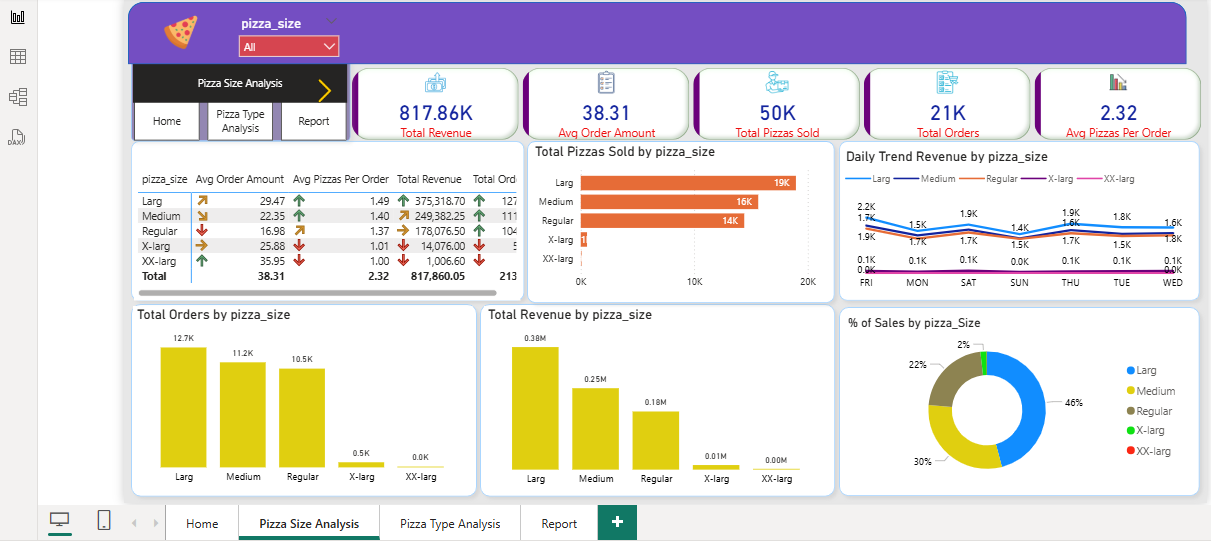

The dashboard page shown, as its layout file describes it:
{"tool":"powerbi","page":{"name":" Pizza Size Analysis","canvas":[1370,638],"ordinal":1},"visuals":[{"type":"shape","box":[0,377.1,455.7,261.4],"z":0},{"type":"columnChart","fields":{"Category":["bizza data set end to end project -.pizza_size"],"Y":["bizza data set end to end project -.Total Orders"]},"box":[11.4,388.6,430,234.3],"z":1000},{"type":"shape","box":[895.7,171.4,474.3,220],"z":2000},{"type":"shape","box":[441.4,377.1,467.1,261.4],"z":3000},{"type":"columnChart","fields":{"Y":["bizza data set end to end project -.Total Revenue"],"Category":["bizza data set end to end project -.pizza_size"]},"box":[455.7,388.6,437.1,237.1],"z":4000},{"type":"shape","box":[0,171.4,515.7,220],"z":5000},{"type":"lineChart","title":"Daily Trend Revenue by pizza_size","fields":{"Category":["bizza data set end to end project -.order day"],"Series":["bizza data set end to end project -.pizza_size"],"Y":["bizza data set end to end project -.Total Orders"]},"box":[908.6,188.6,450,188.6],"z":6000},{"type":"pivotTable","fields":{"Values":["bizza data set end to end project -.Average Order Value","bizza data set end to end project -.Average Pizzas Per Order","bizza data set end to end project -.Total Revenue","bizza data set end to end project -.Total Orders"],"Rows":["bizza data set end to end project -.pizza_size"]},"box":[12.9,212.9,488.6,168.6],"z":7000},{"type":"shape","box":[895.7,381.4,474.3,257.1],"z":8000},{"type":"donutChart","title":"% of Sales by pizza_Size","fields":{"Y":["bizza data set end to end project -.Total Revenue"],"Category":["bizza data set end to end project -.pizza_size"]},"box":[911.4,400,434.3,222.9],"z":9000},{"type":"cardVisual","fields":{"Data":["bizza data set end to end project -.Total Revenue","bizza data set end to end project -.Average Order Value","bizza data set end to end project -.Total Pizzas Sold","bizza data set end to end project -.Total Orders","bizza data set end to end project -.Average Pizzas Per Order"]},"box":[283.5,82.3,1086.1,101.3],"z":10000},{"type":"shape","box":[0,65.7,295.7,122.9],"z":11000},{"type":"pageNavigator","box":[12.9,128.6,270,50],"z":12000},{"type":"pageNavigator","box":[11.4,81.4,271.4,50],"z":13000},{"type":"shape","box":[5,3.8,1340,78.8],"z":14000},{"type":"shape","box":[501.4,171.4,407.1,222.9],"z":15000},{"type":"image","box":[234.3,91.4,40,50],"z":16000},{"type":"slicer","fields":{"Values":["bizza data set end to end project -.pizza_size"]},"box":[135.7,15.7,147.1,64.3],"z":17000},{"type":"clusteredBarChart","fields":{"Y":["bizza data set end to end project -.Total Pizzas Sold"],"Category":["bizza data set end to end project -.pizza_size"]},"box":[515.7,182.9,377.1,194.3],"z":18000},{"type":"image","box":[32.9,15.7,77.1,54.3],"z":19000}]}

Visuals, with their boxes on the page's 1370x638 design canvas (x1, y1, x2, y2). These are canvas units, not pixel positions in the 1211x541 screenshot, which may show the page scaled, cropped or inside an application window:
shape: bbox(0, 377, 456, 638)
columnChart - bizza data set end to end project -.pizza_size x bizza data set end to end project -.Total Orders: bbox(11, 389, 441, 623)
shape: bbox(896, 171, 1370, 391)
shape: bbox(441, 377, 908, 638)
columnChart - bizza data set end to end project -.Total Revenue x bizza data set end to end project -.pizza_size: bbox(456, 389, 893, 626)
shape: bbox(0, 171, 516, 391)
"Daily Trend Revenue by pizza_size" lineChart: bbox(909, 189, 1359, 377)
pivotTable - bizza data set end to end project -.Average Order Value x bizza data set end to end project -.Average Pizzas Per Order: bbox(13, 213, 502, 382)
shape: bbox(896, 381, 1370, 638)
"% of Sales by pizza_Size" donutChart: bbox(911, 400, 1346, 623)
cardVisual - bizza data set end to end project -.Total Revenue x bizza data set end to end project -.Average Order Value: bbox(284, 82, 1370, 184)
shape: bbox(0, 66, 296, 189)
pageNavigator: bbox(13, 129, 283, 179)
pageNavigator: bbox(11, 81, 283, 131)
shape: bbox(5, 4, 1345, 83)
shape: bbox(501, 171, 908, 394)
image: bbox(234, 91, 274, 141)
slicer - bizza data set end to end project -.pizza_size: bbox(136, 16, 283, 80)
clusteredBarChart - bizza data set end to end project -.Total Pizzas Sold x bizza data set end to end project -.pizza_size: bbox(516, 183, 893, 377)
image: bbox(33, 16, 110, 70)
